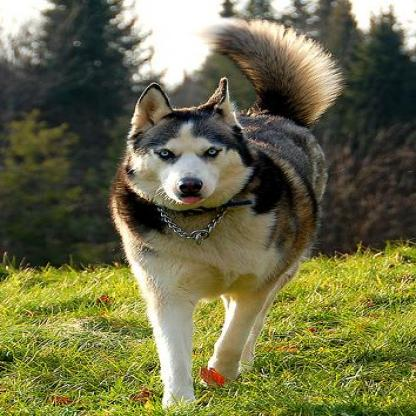Eskimo_dog: (111, 18, 343, 412)
